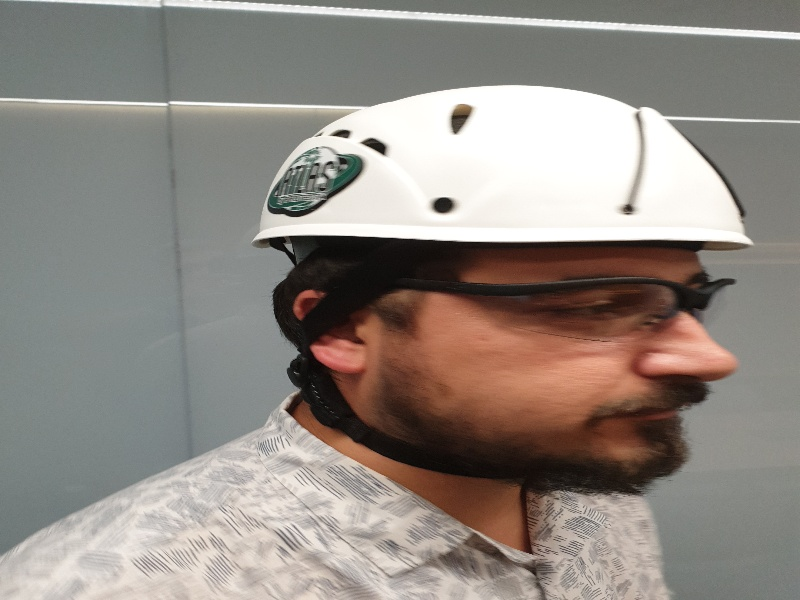Baret: (247, 84, 756, 252)
Gozluk: (391, 274, 742, 342)
